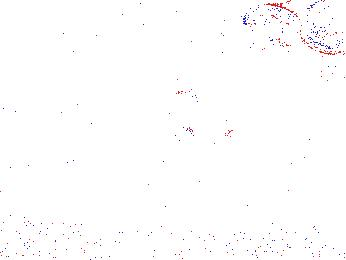moon jellyfish: (169, 88, 231, 150), (134, 2, 195, 63), (188, 5, 251, 56), (244, 5, 307, 53), (296, 1, 346, 55)
